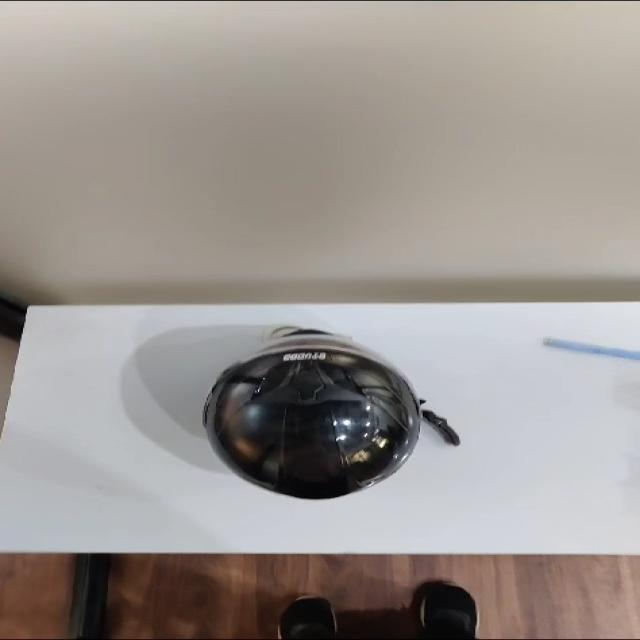helmet: (160, 330, 463, 513)
